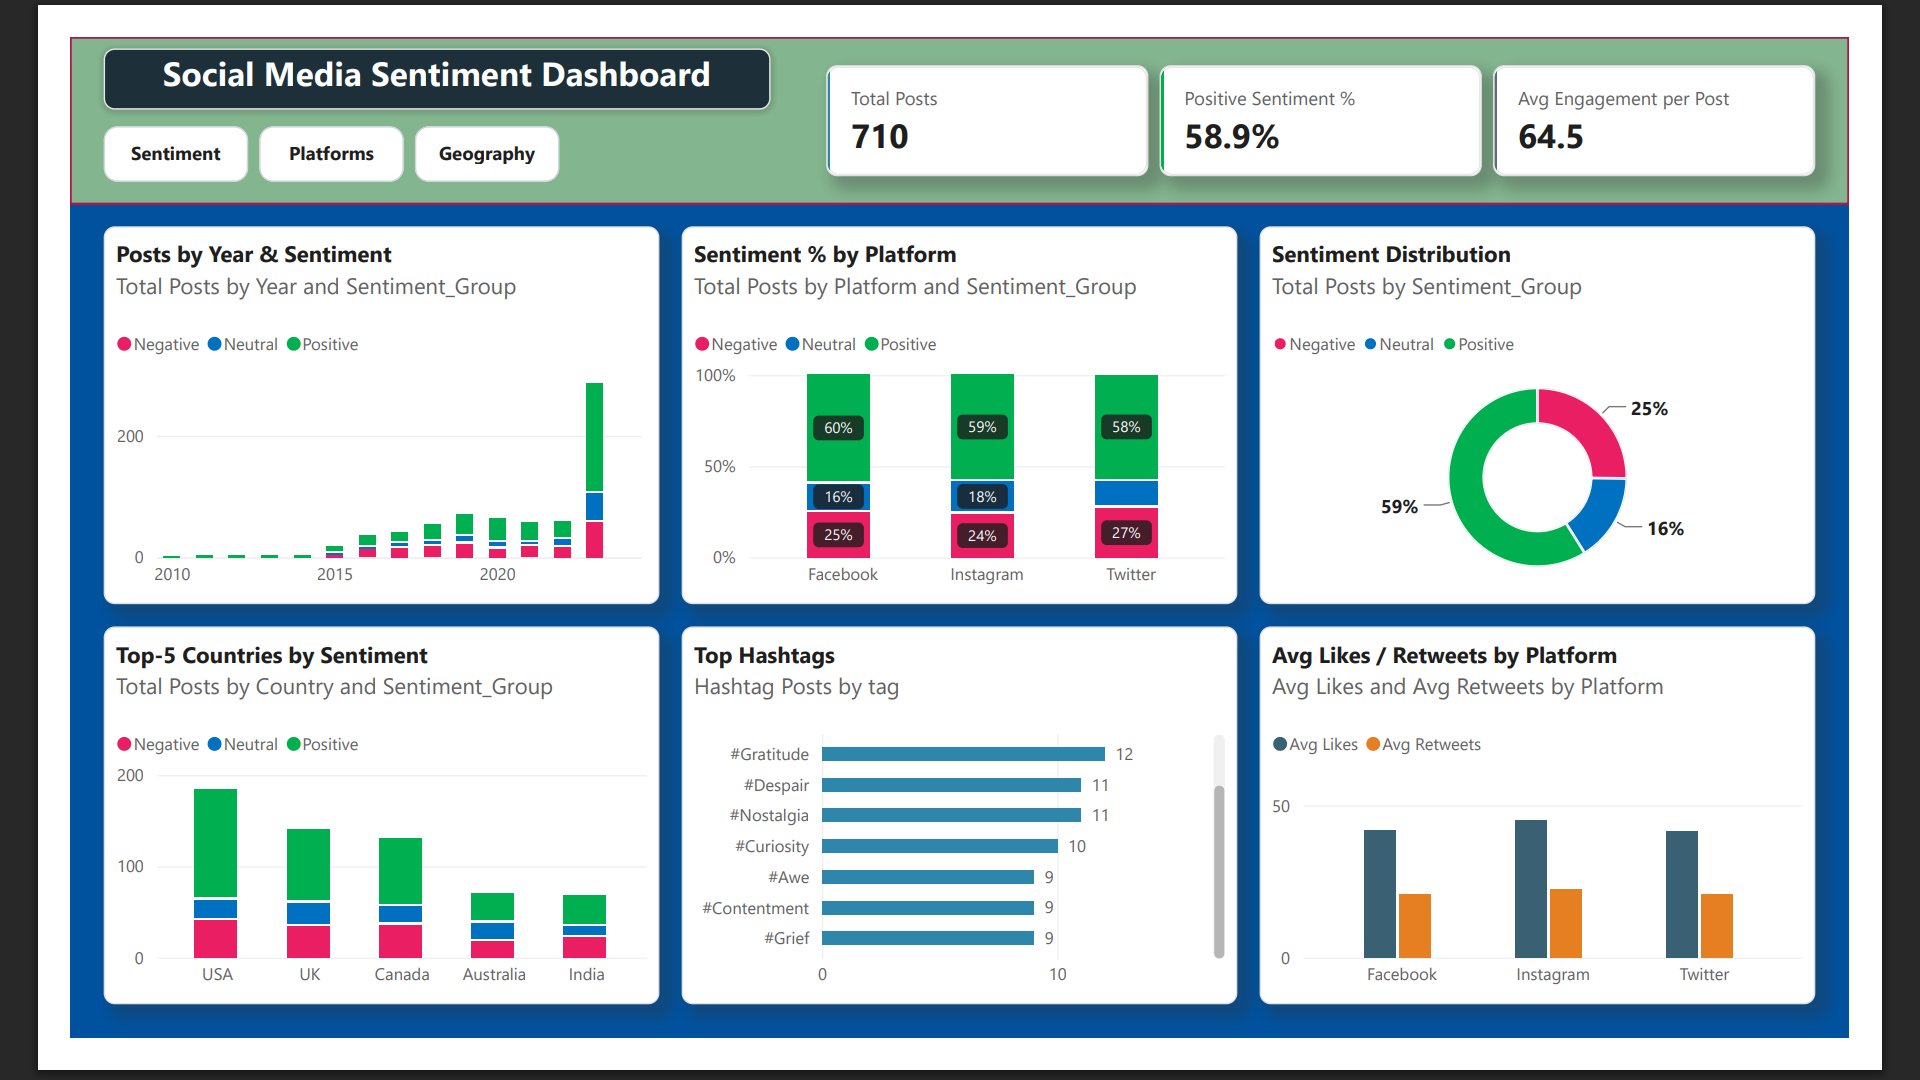

What the dashboard file says about the page in this screenshot:
{"tool":"powerbi","page":{"name":"Overview","canvas":[1280,720],"ordinal":0},"visuals":[{"type":"shape","box":[0,0,1280,120],"z":0},{"type":"textbox","box":[24,8,480,44],"z":1000},{"type":"actionButton","box":[24,64,104,40],"z":2000},{"type":"actionButton","box":[136,64,104,40],"z":3000},{"type":"actionButton","box":[248,64,104,40],"z":4000},{"type":"cardVisual","fields":{"Data":["SentimentData.Total Posts"]},"box":[544,20,232,80],"z":5000},{"type":"cardVisual","fields":{"Data":["SentimentData.Positive Sentiment %"]},"box":[784,20,232,80],"z":6000},{"type":"cardVisual","fields":{"Data":["SentimentData.Avg Engagement per Post"]},"box":[1024,20,232,80],"z":7000},{"type":"columnChart","title":"Posts by Year & Sentiment","fields":{"Category":["SentimentData.Year"],"Series":["SentimentData.Sentiment_Group"],"Y":["SentimentData.Total Posts"]},"box":[24,136,400,272],"z":8000},{"type":"hundredPercentStackedColumnChart","title":"Sentiment % by Platform","fields":{"Category":["SentimentData.Platform"],"Series":["SentimentData.Sentiment_Group"],"Y":["SentimentData.Total Posts"]},"box":[440,136,400,272],"z":9000},{"type":"donutChart","title":"Sentiment Distribution","fields":{"Category":["SentimentData.Sentiment_Group"],"Y":["SentimentData.Total Posts"]},"box":[856,136,400,272],"z":10000},{"type":"columnChart","title":"Top-5 Countries by Sentiment","fields":{"Category":["SentimentData.Country"],"Series":["SentimentData.Sentiment_Group"],"Y":["SentimentData.Total Posts"]},"box":[24,424,400,272],"z":11000},{"type":"clusteredBarChart","title":"Top Hashtags","fields":{"Category":["HashtagSummary.tag"],"Y":["HashtagSummary.Hashtag Posts"]},"box":[440,424,400,272],"z":12000},{"type":"clusteredColumnChart","title":"Avg Likes / Retweets by Platform","fields":{"Category":["SentimentData.Platform"],"Y":["SentimentData.Avg Likes","SentimentData.Avg Retweets"]},"box":[856,424,400,272],"z":13000}]}

Visuals, with their boxes in screenshot pixels (x1, y1, x2, y2), scaled from the page's 1280x720 canvas onto the 1920x1080 screenshot:
shape: Rect(0, 0, 1919, 180)
textbox: Rect(36, 12, 756, 78)
actionButton: Rect(36, 96, 192, 156)
actionButton: Rect(204, 96, 360, 156)
actionButton: Rect(372, 96, 528, 156)
cardVisual - SentimentData.Total Posts: Rect(816, 30, 1164, 150)
cardVisual - SentimentData.Positive Sentiment %: Rect(1176, 30, 1524, 150)
cardVisual - SentimentData.Avg Engagement per Post: Rect(1536, 30, 1884, 150)
"Posts by Year & Sentiment" columnChart: Rect(36, 204, 636, 612)
"Sentiment % by Platform" hundredPercentStackedColumnChart: Rect(660, 204, 1260, 612)
"Sentiment Distribution" donutChart: Rect(1284, 204, 1884, 612)
"Top-5 Countries by Sentiment" columnChart: Rect(36, 636, 636, 1044)
"Top Hashtags" clusteredBarChart: Rect(660, 636, 1260, 1044)
"Avg Likes / Retweets by Platform" clusteredColumnChart: Rect(1284, 636, 1884, 1044)
